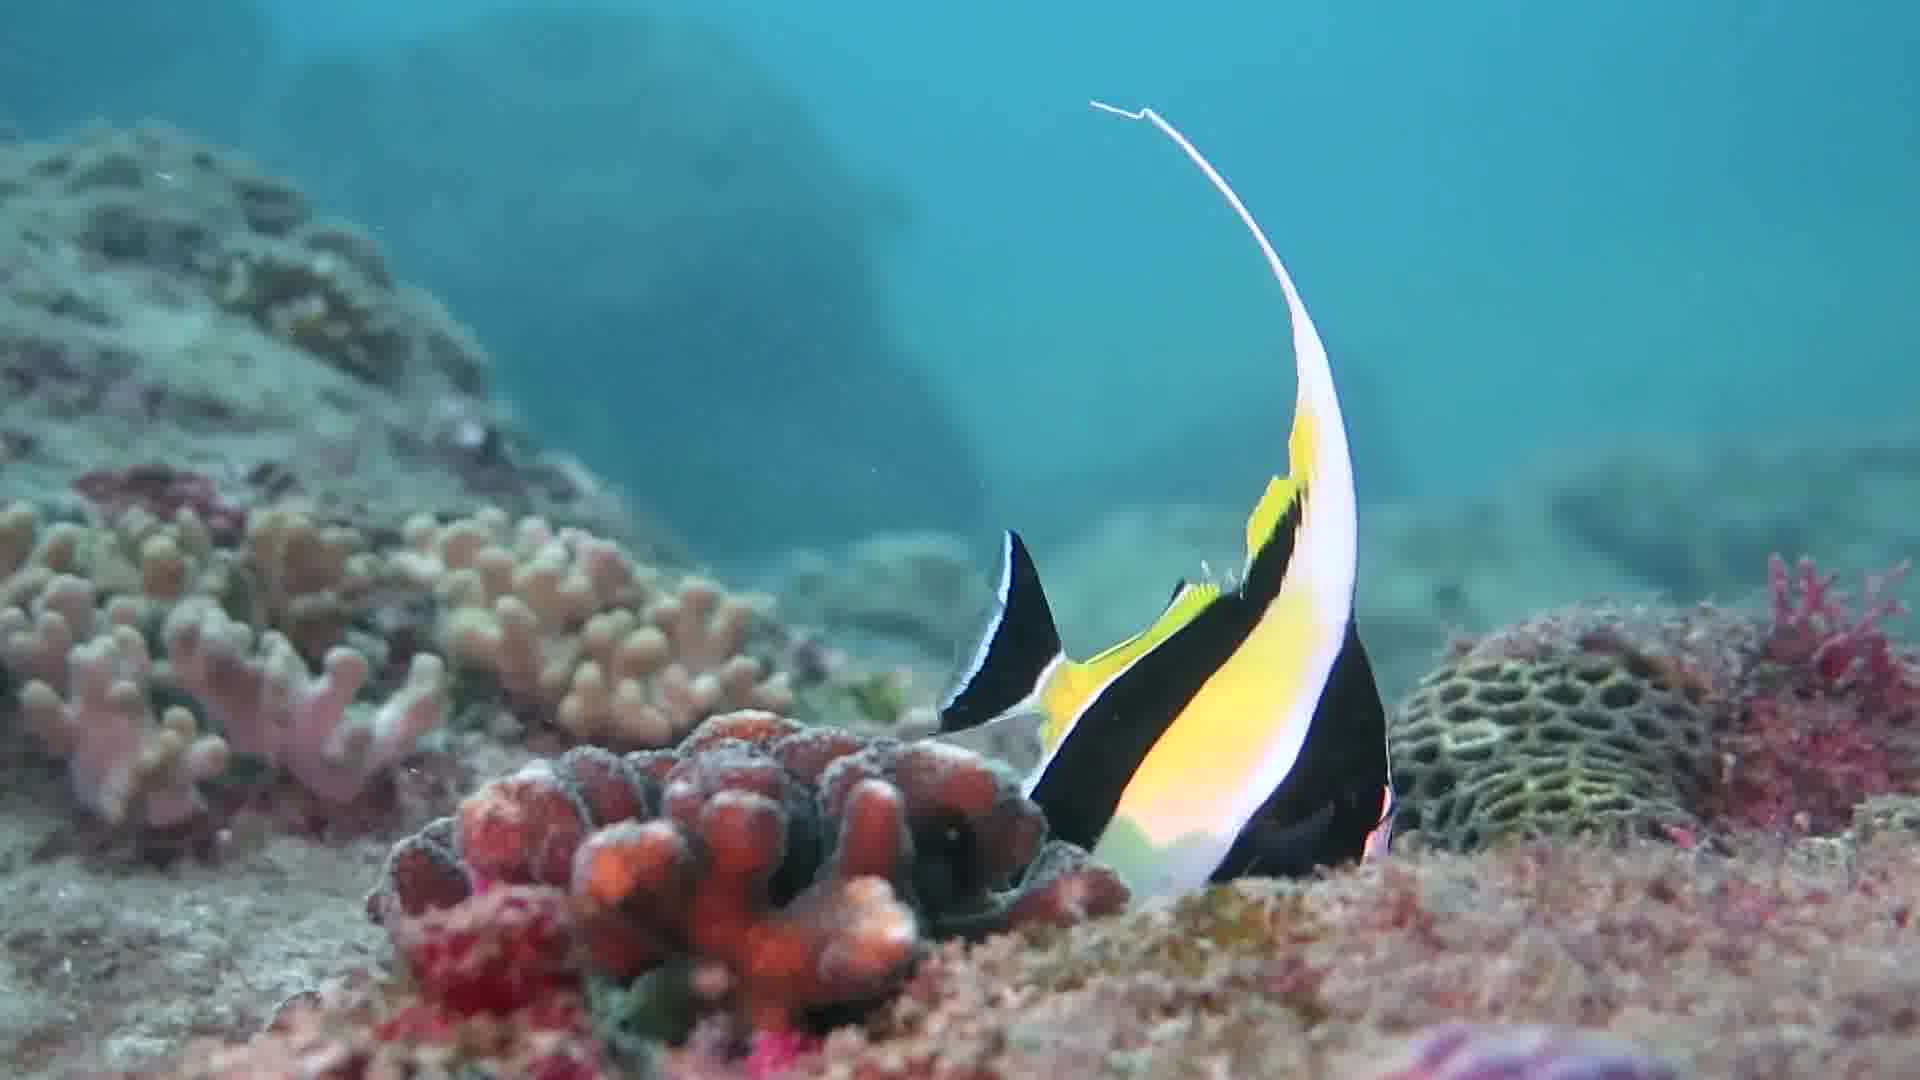Zanclus cornutus: (934, 435, 1451, 939)
